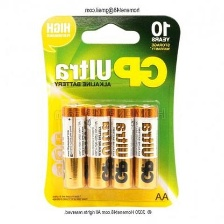battery: (107, 103, 138, 190), (60, 102, 89, 191), (84, 102, 112, 190), (133, 103, 160, 191)
book: (39, 13, 184, 213)
